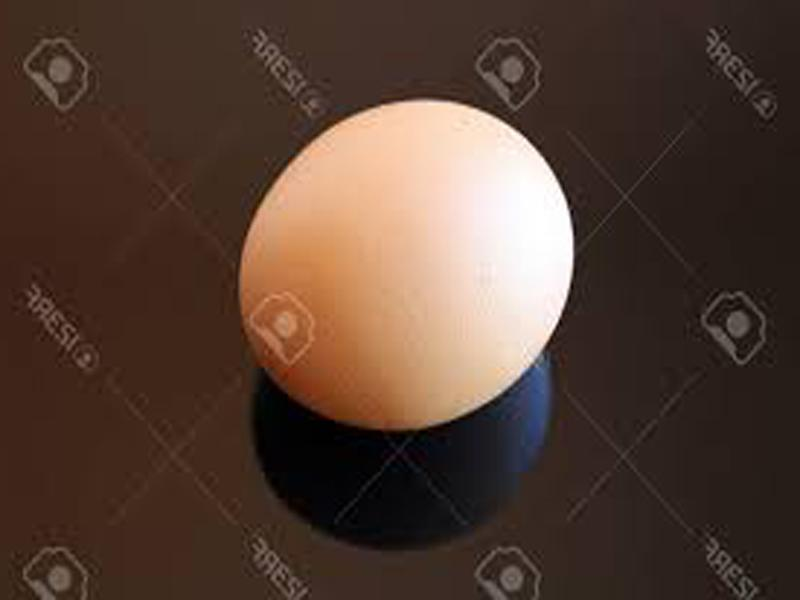Eggs: (240, 98, 575, 433)
